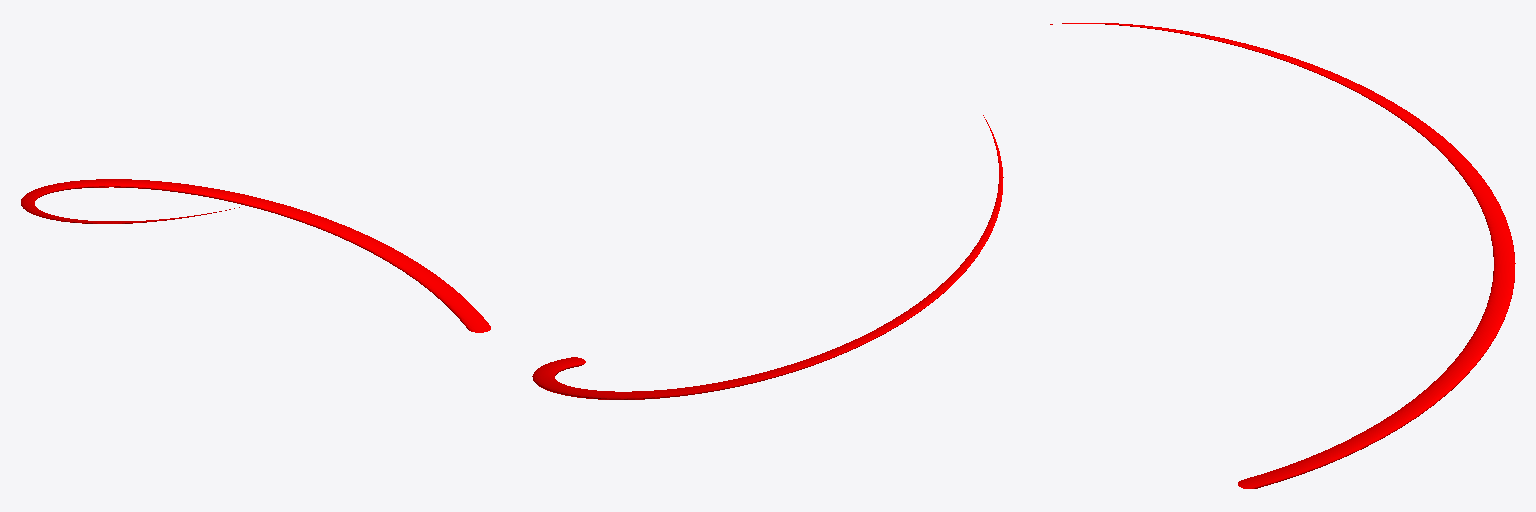
The robot description file, URDF, robot "needle":
<?xml version="0.0" ?>
<robot name="needle">
    <material name="red">
        <color rgba="1 0 0 1"/>
    </material>
    <!-- <material name="grey">
        <color rgba="0.85 0.85 0.85 1"/>
    </material> -->

    <link name="baseLink">
        <contact>
            <lateral_friction value="1.0"/>
            <!--      rolling_friction: important (0.1 failed)-->
            <rolling_friction value="0.0"/>
        </contact>
        <inertial>
            <!--      tours: 30, 8-->
            <!--      major radius: 0.02, minor radius: 0.0005-->
            <!--      vis: radius=0.02, in radius=0.0005-->
            <!--      col: radius=0.02, in radius=0.0006-->
            <!--      center of mass: 2*R/pi; important-->
            <origin rpy="0 0 0" xyz="-0.0127 0 0"/>
            <mass value="0.01"/>
            <inertia ixx="0." ixy="0" ixz="0" iyy="0." iyz="0" izz="0."/>
        </inertial>
        <visual>
            <origin rpy="0 0 0" xyz="0 0 0"/>
            <geometry>
                <!-- <mesh filename="meshes/needle_40mm.obj" scale="1 1 1"/> -->
                <mesh filename="meshes/bent_sealed_tapered_needle2.obj" scale="0.01 0.01 0.01"/>
            </geometry>
            <!-- <material name="grey"/> -->
             <material name="red"/>
        </visual>
        <collision>
            <origin rpy="0 0 0" xyz="0 0 0"/>
            <geometry>
                <mesh filename="meshes/bent_sealed_tapered_needle2_vhacd.obj" scale="0.01 0.01 0.01"/>
                <!-- <mesh filename="meshes/needle_40mm_vhacd.obj" scale="1 1 1"/> -->
            </geometry>
        </collision>
    </link>

    <link name="waypoint_0">
        <!--    origin-->
        <inertial>
            <origin rpy="0 0 0" xyz="0 0 0"/>
            <mass value=".0"/>
            <inertia ixx="0." ixy="0" ixz="0" iyy="0." iyz="0" izz="0."/>
        </inertial>
    </link>

    <joint name="waypoint_joint_0" type="fixed">
        <parent link="baseLink"/>
        <child link="waypoint_0"/>
        <origin rpy="0 0 0" xyz="0 0 0"/>
    </joint>

    <link name="waypoint_1">
        <!--    middle-->
        <inertial>
            <origin rpy="0 0 0" xyz="0 0 0"/>
            <mass value=".0"/>
            <inertia ixx="0." ixy="0" ixz="0" iyy="0." iyz="0" izz="0."/>
        </inertial>
        <!--    <visual>-->
        <!--      <origin rpy="0 0 0" xyz="0 0 0"/>-->
        <!--      <geometry>-->
        <!--        <box size="0.005 0.005 0.005"/>-->
        <!--      </geometry>-->
        <!--      <material name="grey"/>-->
        <!--    </visual>-->
    </link>

    <joint name="waypoint_joint_1" type="fixed">
        <parent link="baseLink"/>
        <child link="waypoint_1"/>
        <!--    (-R, 0, 0)-->
        <origin rpy="0 0 0" xyz="-0.02 0 0"/>
    </joint>

    <link name="waypoint_2">
        <!--    left-->
        <inertial>
            <origin rpy="0 0 0" xyz="0 0 0"/>
            <mass value=".0"/>
            <inertia ixx="0." ixy="0" ixz="0" iyy="0." iyz="0" izz="0."/>
        </inertial>
    </link>

    <joint name="waypoint_joint_2" type="fixed">
        <parent link="baseLink"/>
        <child link="waypoint_2"/>
        <!--    (-sqrt(2)R/2, -sqrt(2)R/2, 0)-->
        <origin rpy="0 0 0.785398" xyz="-0.0141421 -0.0141421 0"/>
    </joint>

    <link name="waypoint_3">
        <!--    right-->
        <inertial>
            <origin rpy="0 0 0" xyz="0 0 0"/>
            <mass value=".0"/>
            <inertia ixx="0." ixy="0" ixz="0" iyy="0." iyz="0" izz="0."/>
        </inertial>
    </link>

    <joint name="waypoint_joint_3" type="fixed">
        <parent link="baseLink"/>
        <child link="waypoint_3"/>
        <!--    (-sqrt(2)R/2, sqrt(2)R/2, 0)-->
        <origin rpy="0 0 -0.785398" xyz="-0.0141421 0.0141421 0"/>
    </joint>

    <link name="waypoint_4">
        <!--    left 60deg-->
        <inertial>
            <origin rpy="0 0 0" xyz="0 0 0"/>
            <mass value=".0"/>
            <inertia ixx="0." ixy="0" ixz="0" iyy="0." iyz="0" izz="0."/>
        </inertial>
    </link>

    <joint name="waypoint_joint_4" type="fixed">
        <parent link="baseLink"/>
        <child link="waypoint_4"/>
        <!--    -cos(60)*R, -sin(60)*R, 0)-->
        <origin rpy="0 0 1.047197" xyz="-0.0100000 -0.0173205 0"/>
    </joint>

    <link name="waypoint_5">
        <!--    right 60deg-->
        <inertial>
            <origin rpy="0 0 0" xyz="0 0 0"/>
            <mass value=".0"/>
            <inertia ixx="0." ixy="0" ixz="0" iyy="0." iyz="0" izz="0."/>
        </inertial>
    </link>

    <joint name="waypoint_joint_5" type="fixed">
        <parent link="baseLink"/>
        <child link="waypoint_5"/>
        <!--    -cos(60)*R, sin(60)*R, 0)-->
        <origin rpy="0 0 -1.047198" xyz="-0.0100000 0.0173205 0"/>
    </joint>
</robot>

--- Facts derived from the render (not from the file) ---
Views: 3 orthographic renders of the robot side by side, from view 1: azimuth 30°, elevation 25°; view 2: azimuth 150°, elevation 25°; view 3: azimuth 270°, elevation 25°.
Robot: needle — 7 links, 6 joints (6 fixed); root link baseLink; default pose: every joint at zero.
Links seen in each view (by area): view 1: baseLink; view 2: baseLink; view 3: baseLink.
Link boxes in pixels (x1,y1,x2,y2): baseLink: (21,179,490,332); baseLink: (532,115,1003,399); baseLink: (1050,23,1515,488).
Bounding box of the posed robot: 0.0414 × 0.037 × 0.025 m (x, y, z).
1 mesh visuals loaded from 1 distinct referenced files (1 OBJ).